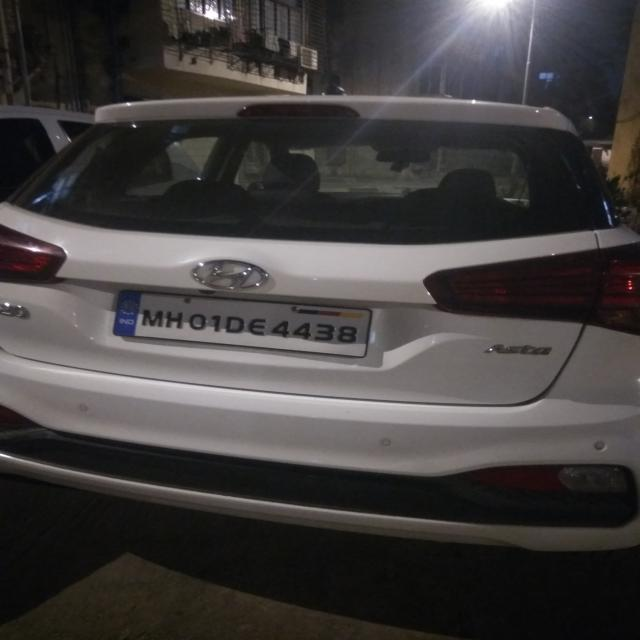Number-Plate: (120, 294, 373, 353)
